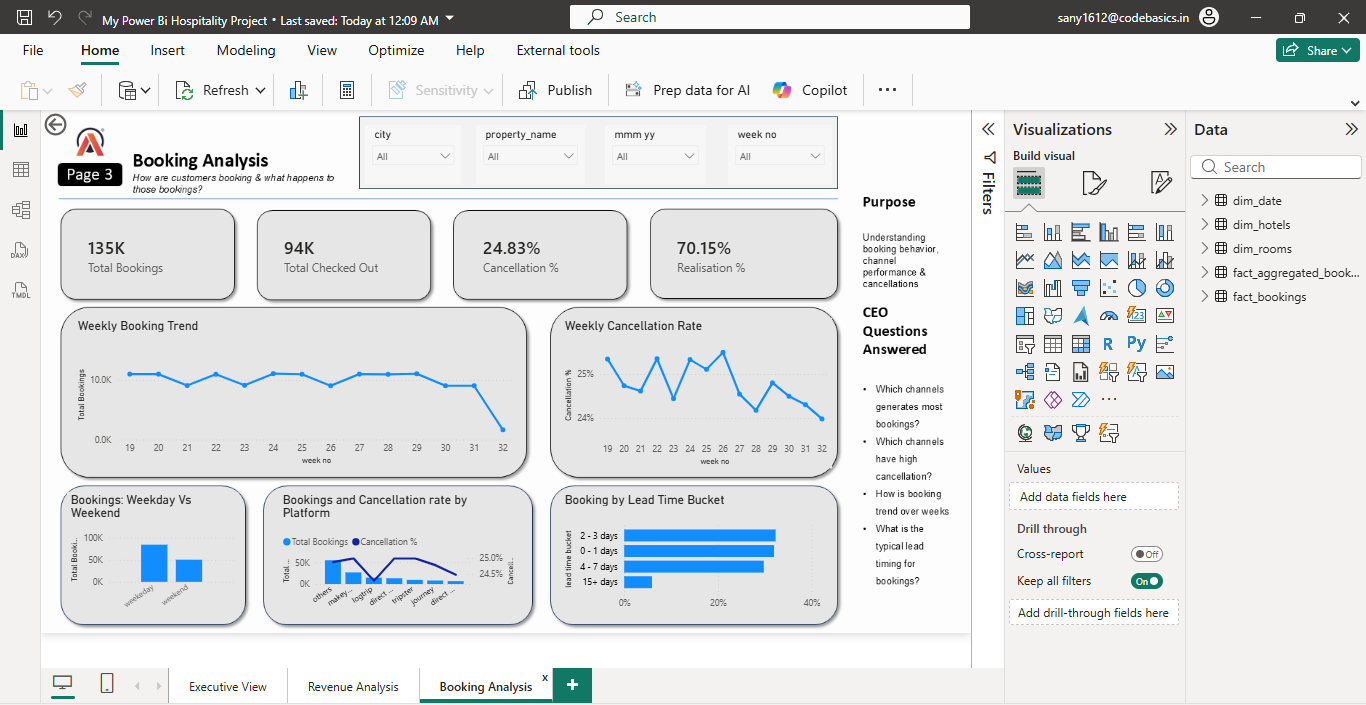

Layout of this report page (visuals, bound fields, positions):
{"tool":"powerbi","page":{"name":"Booking Analysis","canvas":[1280,720],"ordinal":2},"visuals":[{"type":"slicer","fields":{"Values":["dim_hotels.city"]},"box":[446.2,20,133,81.5],"z":0},{"type":"slicer","fields":{"Values":["dim_hotels.property_name"]},"box":[599.2,20,150.2,81.5],"z":1000},{"type":"slicer","fields":{"Values":["dim_date.mmm yy"]},"box":[776.6,20,138.7,81.5],"z":2000},{"type":"slicer","fields":{"Values":["dim_date.week no"]},"box":[945.3,20,143,81.5],"z":3000},{"type":"cardVisual","fields":{"Data":["fact_bookings.Total Bookings"]},"box":[35.8,145.9,223.1,107.3],"z":4000},{"type":"cardVisual","fields":{"Data":["fact_bookings.Total Checked Out"]},"box":[306.1,145.9,223.1,107.3],"z":5000},{"type":"cardVisual","fields":{"Data":["fact_bookings.Cancellation %"]},"box":[579.2,145.9,216,107.3],"z":6000},{"type":"cardVisual","fields":{"Data":["fact_bookings.Realisation %"]},"box":[846.7,145.9,241.7,107.3],"z":7000},{"type":"lineChart","title":"Weekly Booking Trend","fields":{"Category":["dim_date.week no"],"Y":["fact_bookings.Total Bookings"]},"box":[45.4,286.3,611.1,206.5],"z":8000},{"type":"actionButton","box":[0,0,100,40],"z":9000},{"type":"lineChart","title":"Weekly Cancellation Rate","fields":{"Category":["dim_date.week no"],"Y":["fact_bookings.Cancellation %"]},"box":[715.1,286,373.3,207.4],"z":10000},{"type":"lineClusteredColumnComboChart","title":"Bookings and Cancellation rate by Platform","fields":{"Category":["fact_bookings.booking_platform"],"Y":["fact_bookings.Total Bookings"],"Y2":["fact_bookings.Cancellation %"]},"box":[327.6,525.8,328.9,170.7],"z":11000},{"type":"barChart","title":"Booking by Lead Time Bucket","fields":{"Category":["fact_bookings.lead time bucket"],"Y":["fact_bookings.Booking %"]},"box":[715.7,525.8,362,170.7],"z":12000},{"type":"columnChart","title":"Bookings: Weekday Vs Weekend","fields":{"Category":["dim_date.day_type"],"Y":["fact_bookings.Total Bookings"]},"box":[35.8,525.8,236,170.7],"z":13000},{"type":"image","box":[4.1,23.4,128,39.9],"z":14000}]}

Visuals, with their boxes on the page's 1280x720 design canvas (x1, y1, x2, y2). These are canvas units, not pixel positions in the 1366x705 screenshot, which may show the page scaled, cropped or inside an application window:
slicer - dim_hotels.city: (left=446, top=20, right=579, bottom=102)
slicer - dim_hotels.property_name: (left=599, top=20, right=749, bottom=102)
slicer - dim_date.mmm yy: (left=777, top=20, right=915, bottom=102)
slicer - dim_date.week no: (left=945, top=20, right=1088, bottom=102)
cardVisual - fact_bookings.Total Bookings: (left=36, top=146, right=259, bottom=253)
cardVisual - fact_bookings.Total Checked Out: (left=306, top=146, right=529, bottom=253)
cardVisual - fact_bookings.Cancellation %: (left=579, top=146, right=795, bottom=253)
cardVisual - fact_bookings.Realisation %: (left=847, top=146, right=1088, bottom=253)
"Weekly Booking Trend" lineChart: (left=45, top=286, right=656, bottom=493)
actionButton: (left=0, top=0, right=100, bottom=40)
"Weekly Cancellation Rate" lineChart: (left=715, top=286, right=1088, bottom=493)
"Bookings and Cancellation rate by Platform" lineClusteredColumnComboChart: (left=328, top=526, right=656, bottom=696)
"Booking by Lead Time Bucket" barChart: (left=716, top=526, right=1078, bottom=696)
"Bookings: Weekday Vs Weekend" columnChart: (left=36, top=526, right=272, bottom=696)
image: (left=4, top=23, right=132, bottom=63)
